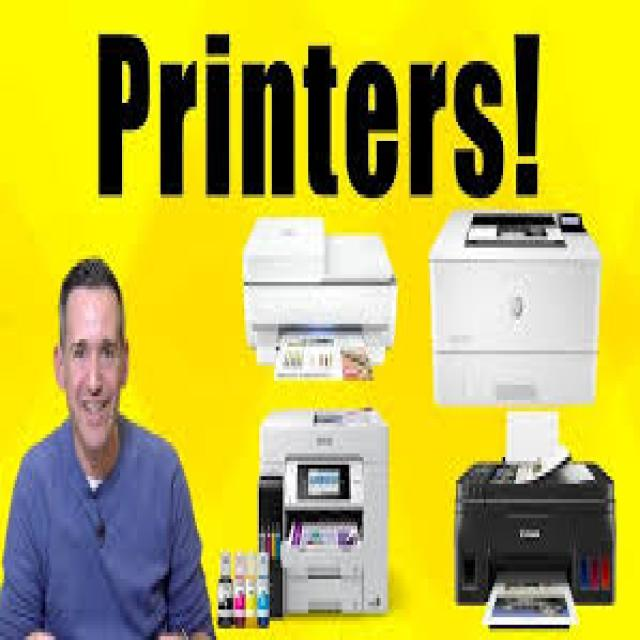printer: (428, 206, 599, 404), (454, 449, 616, 621), (257, 404, 387, 617), (242, 213, 396, 377)
